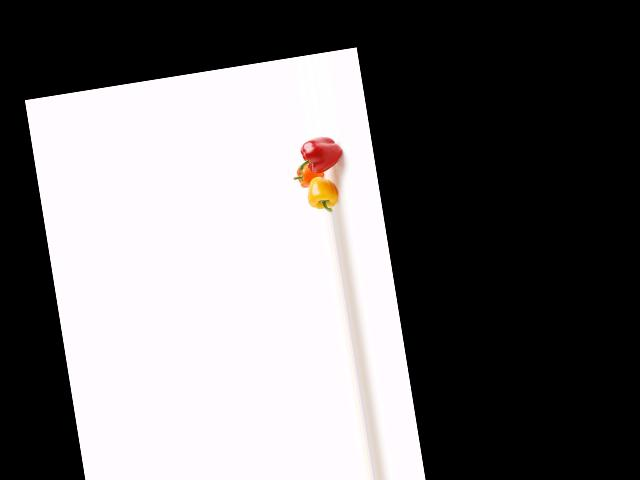bell_pepper: (290, 132, 349, 178)
